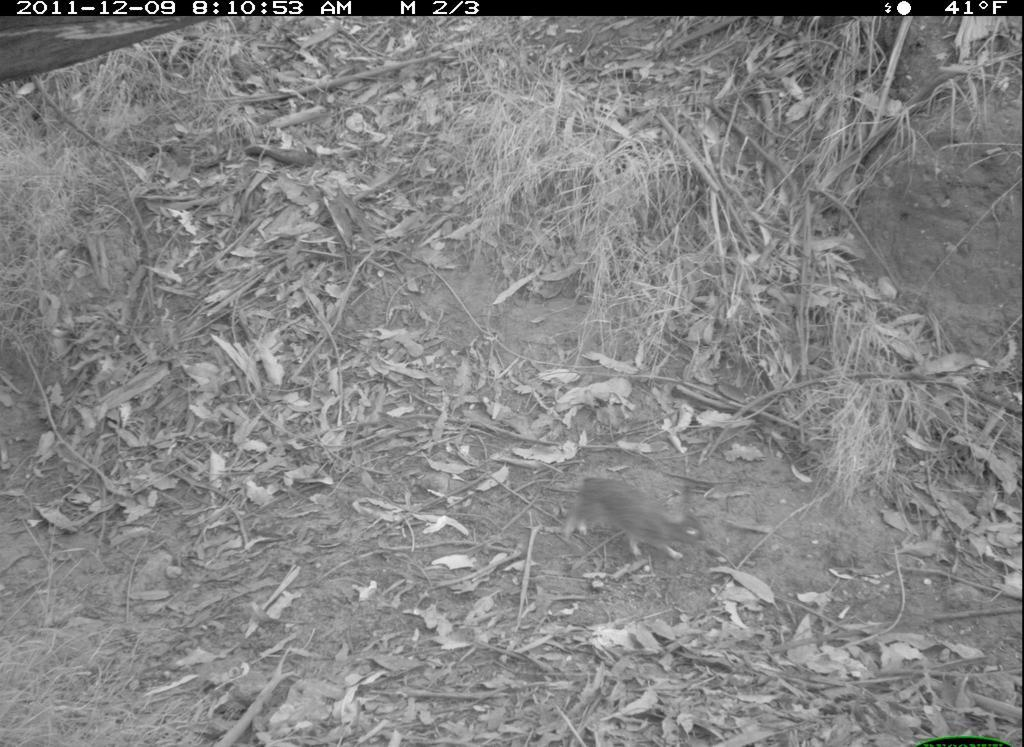rabbit: (553, 463, 717, 584)
